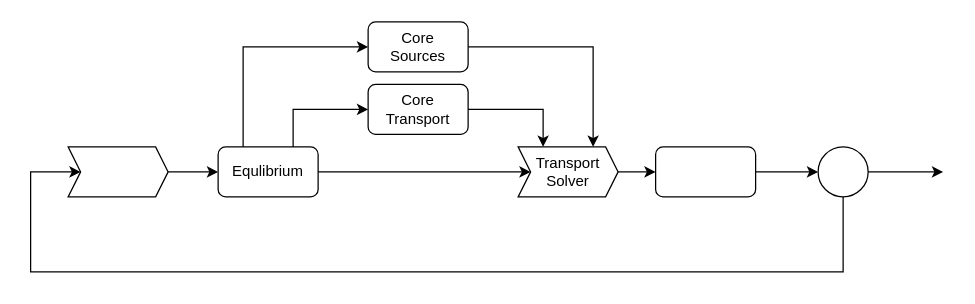
Image size: 975x304. Some labels were removed from this diagram. The centre of each missing label's shape, as x and y in pixels:
Core Profiles: point (705, 171)
Equlibrium Solver: point (117, 171)
